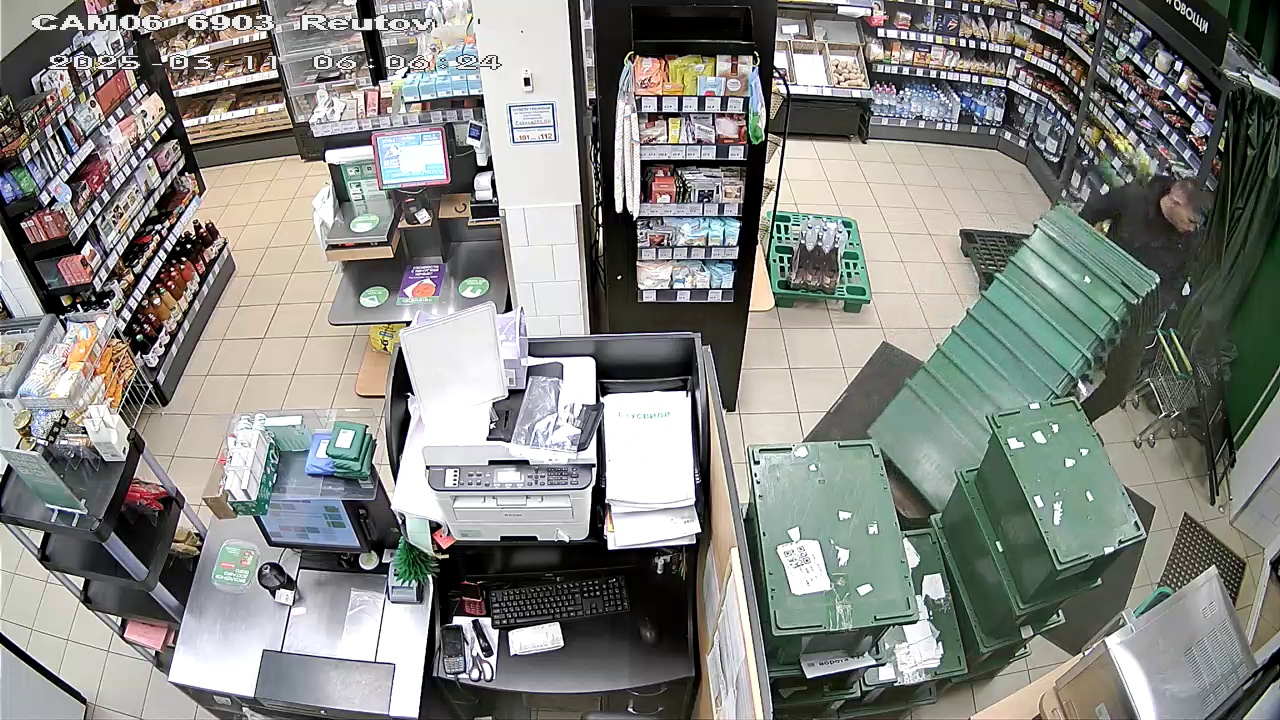Human: (1079, 170, 1207, 331)
